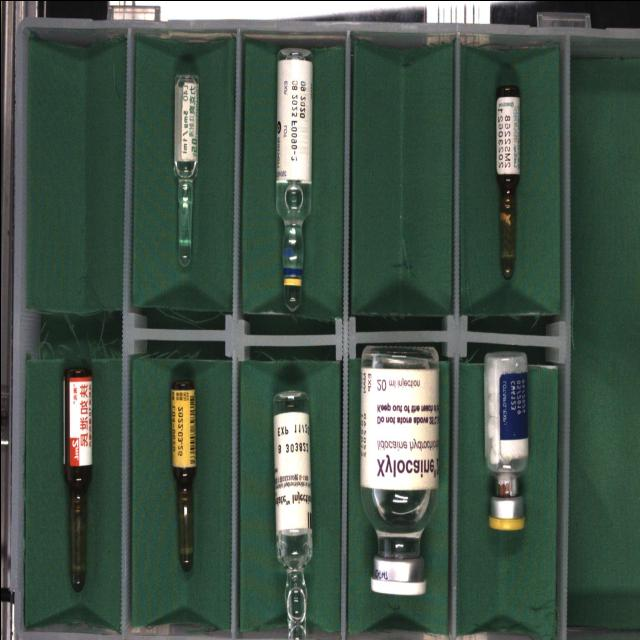Vials: (359, 346, 439, 594), (483, 352, 527, 530)
